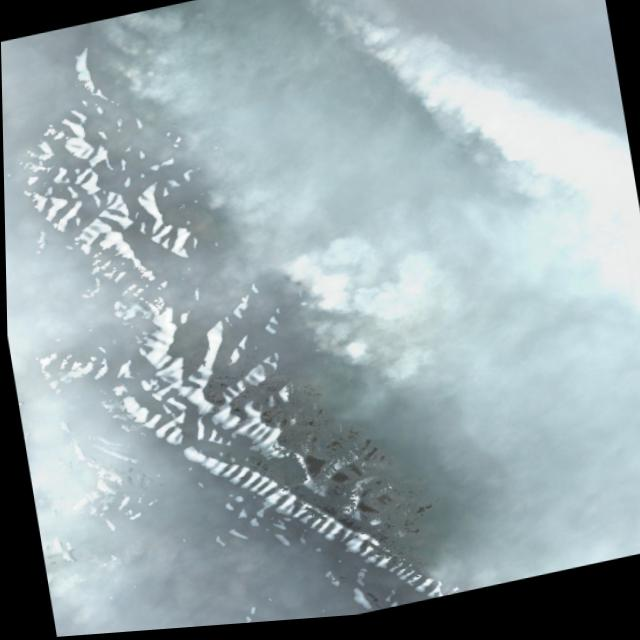fire: (285, 0, 629, 222), (252, 236, 368, 385), (97, 24, 181, 134)
